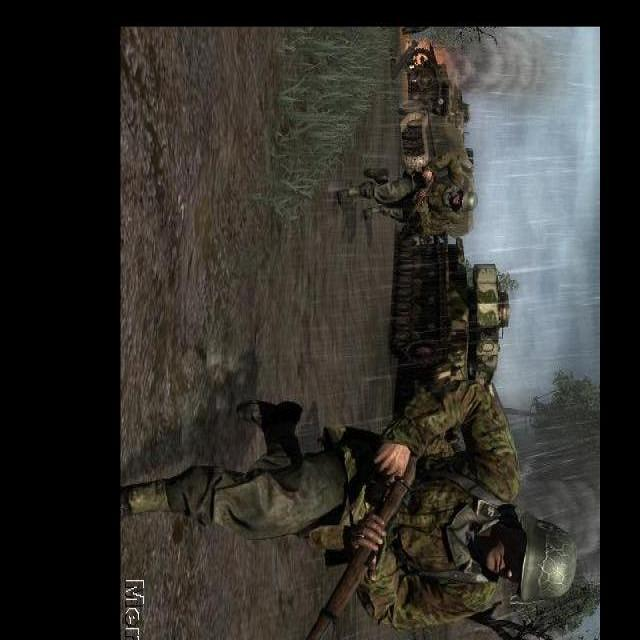weapon: (303, 453, 422, 640), (406, 172, 434, 221)
